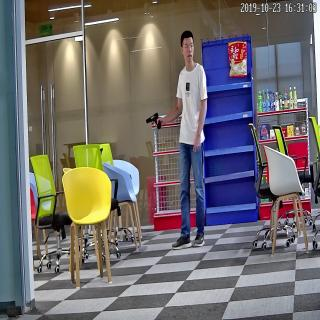gun: (145, 110, 161, 134)
